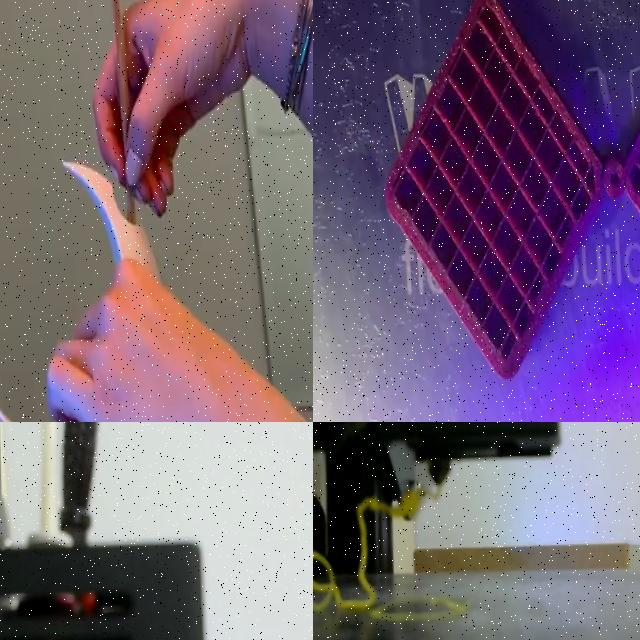spaghetti: (313, 491, 424, 611)
